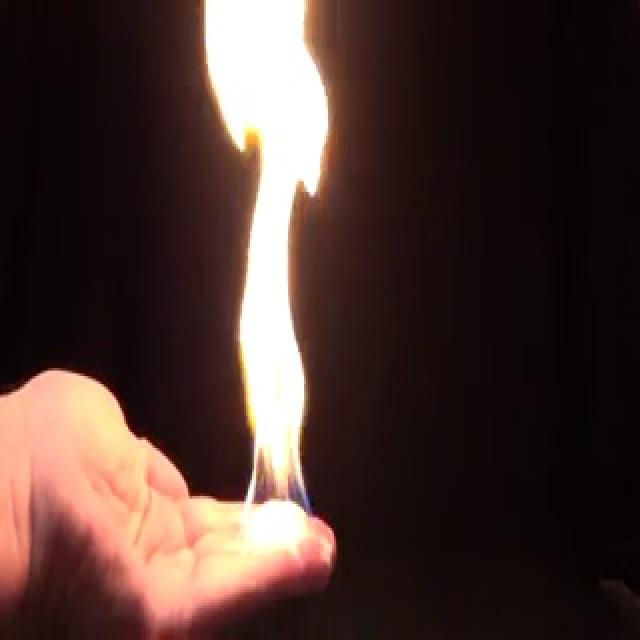fire: (203, 0, 337, 550)
